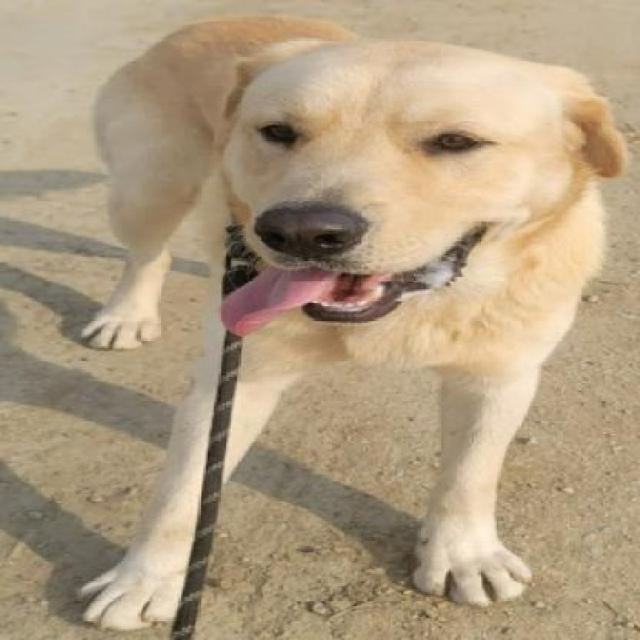Dog: (66, 14, 639, 638)
